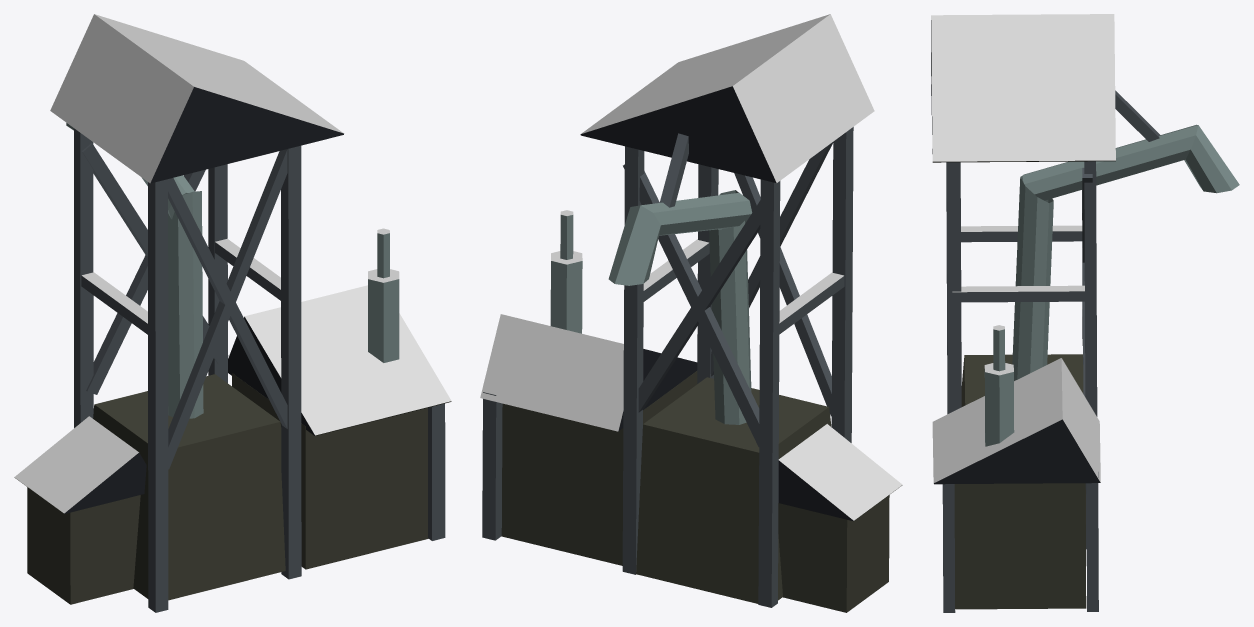
The model's file is CoalThumper.fbx.
The picture shows the model from 3 angles, left to right: view 1: azimuth 30°, elevation 25°; view 2: azimuth 150°, elevation 25°; view 3: azimuth 270°, elevation 25°; orthographic projection. The views are drawn at different scales.
Visible parts, largest first — view 1: Cylinder.002; view 2: Cylinder.002; view 3: Cylinder.002.
Part boxes in pixels (x1,y1,x2,y2): Cylinder.002: (14, 14, 451, 612); Cylinder.002: (480, 14, 902, 612); Cylinder.002: (931, 14, 1239, 612).
Bounding box in the file's own units: 1196 × 685 × 857.
